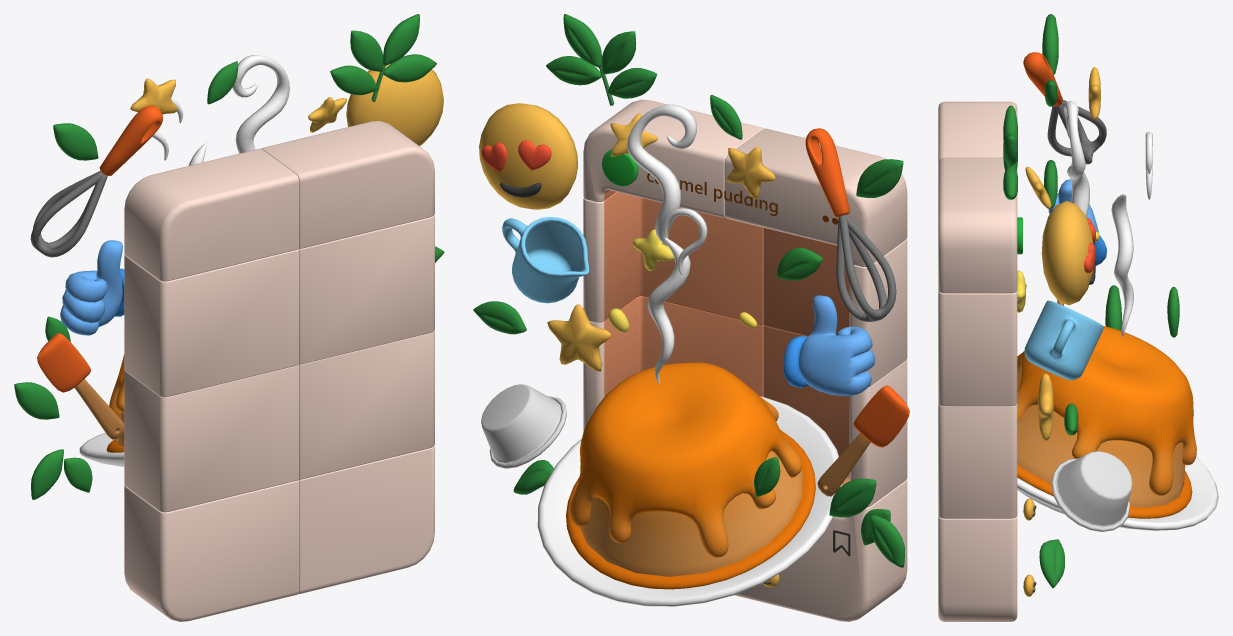
Rendered from Level_P_33.fbx.
3 renders of one model, left to right at view 1: azimuth 30°, elevation 25°; view 2: azimuth 150°, elevation 25°; view 3: azimuth 270°, elevation 25°, orthographic. The views are drawn at different scales.
Parts seen in each view (by area): view 1: Cube.356, Cube.358, Cube.361, Cube.360, Cube.362, Cube.357, Cube.359, Cube.363, Sphere.036, Sam.002, Cube.354, Cube.336 (+15 smaller); view 2: Plate.002, Cube.362, Cube.360, Plate, Plate.001, Cube.361, Cube.357, Cube.356, Cube.363, Sphere.036, Cube.358, Sam.002 (+27 smaller); view 3: Plate.002, Cube.363, Cube.362, Cube.357, Cube.359, Plate.001, Plate.004, Sphere.036, Cylinder.233, Cube.360, Plate, Cube.339 (+17 smaller).
Boxes of the visible parts, box(x1,y1,x2,y2) form: Cube.356: box(124, 249, 299, 397); Cube.358: box(124, 365, 299, 512); Cube.361: box(124, 480, 299, 621); Cube.360: box(124, 148, 299, 281); Cube.362: box(299, 215, 434, 364); Cube.357: box(299, 331, 434, 479); Cube.359: box(298, 446, 434, 594); Cube.363: box(261, 121, 434, 248); Sphere.036: box(346, 64, 443, 145); Sam.002: box(60, 240, 124, 335); Cube.354: box(30, 170, 107, 257); Cube.336: box(232, 55, 289, 153); Plate.002: box(570, 362, 801, 557); Cube.362: box(583, 191, 763, 325); Cube.360: box(724, 128, 907, 266); Plate: box(537, 396, 842, 606); Plate.001: box(579, 451, 802, 576); Cube.361: box(734, 473, 907, 621); Cube.357: box(583, 296, 763, 432); Cube.356: box(763, 228, 907, 386); Cube.363: box(583, 99, 764, 217); Sphere.036: box(479, 103, 577, 209); Cube.358: box(763, 325, 907, 507); Sam.002: box(783, 295, 875, 395); Plate.002: box(1017, 326, 1196, 495); Cube.363: box(938, 157, 1017, 293); Cube.362: box(938, 291, 1017, 406); Cube.357: box(938, 404, 1017, 518); Cube.359: box(938, 516, 1017, 621); Plate.001: box(1017, 364, 1185, 507); Plate.004: box(1051, 451, 1132, 531); Sphere.036: box(1041, 201, 1095, 305); Cylinder.233: box(1024, 300, 1103, 380); Cube.360: box(938, 101, 1017, 161); Plate: box(1017, 456, 1218, 530); Cube.339: box(1111, 194, 1133, 336).
Bounding box in the file's own units: 14.19 × 16.96 × 8.55.
